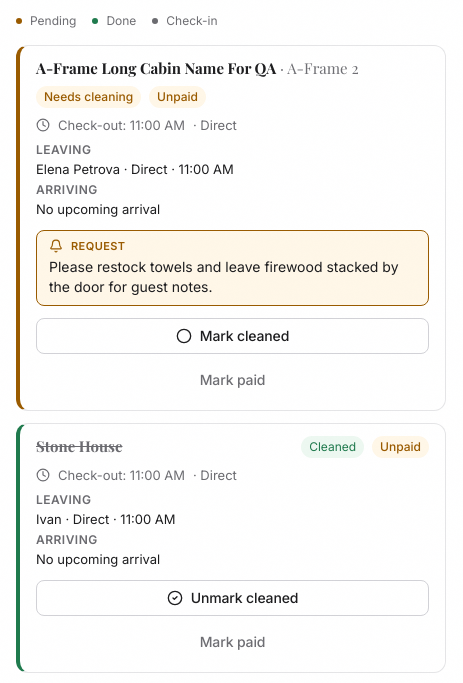
Scenario: OpsCleaningCalendar migration › retains mark-cleaned error after write failure
This screenshot has width=463, height=683.
(page scrolled)
Step 1. Click the button with test id "mark-cleaned" showing "Mark cleaned" → [232, 336], box [36, 318, 429, 354]
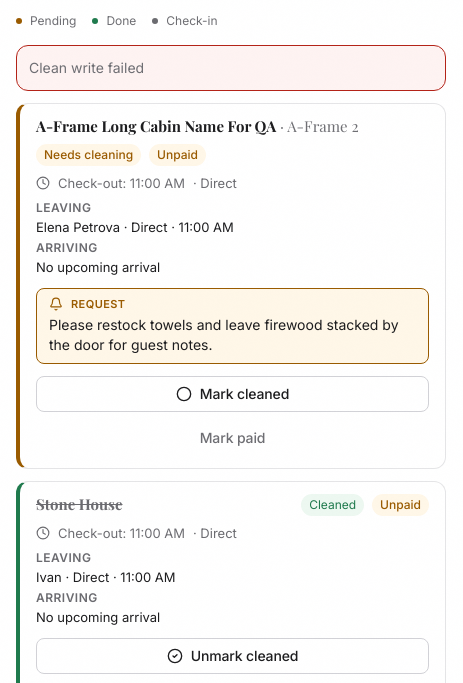
Check: the text "Clean write failed" is shown, box [29, 59, 144, 76]
